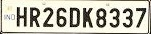character: (95, 7, 107, 28), (134, 6, 146, 27), (16, 5, 27, 27), (29, 6, 40, 28), (68, 6, 79, 28), (82, 7, 93, 29), (42, 7, 54, 27), (122, 7, 134, 27), (55, 6, 66, 27), (109, 7, 120, 28)
